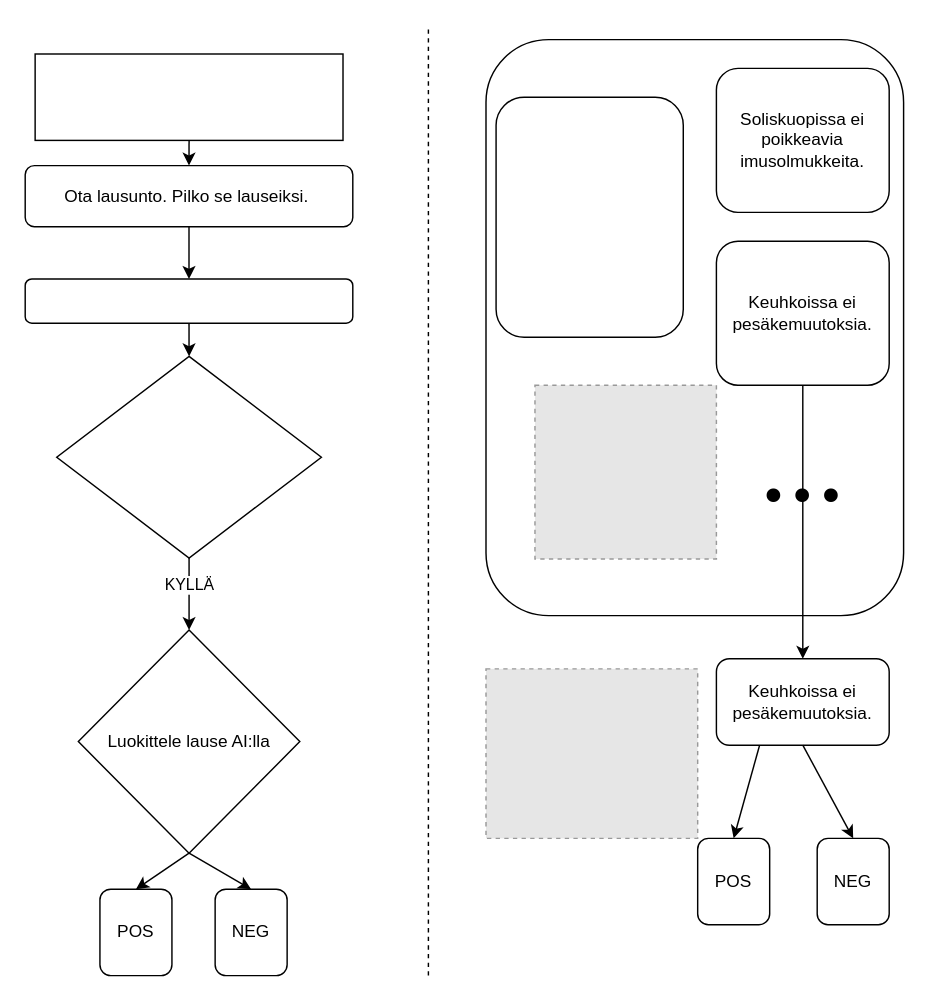
Some shapes in this 929 by 1002 pixel diagram are drawn without their labels. Grey dashed boxes stand in for pictures. The centre of each missing label's shape, as x and y in pixels:
"Alimmassa lannenikamassa on molemminpuolinen spondyloosi ja liukumaa noin 10 mm." goes at (x=589, y=216).
"Lausunnot ja niiden sisältämät lauseet" goes at (x=188, y=96).
"Sisältääkö lause sanan?" goes at (x=188, y=456).
"Syötä lauseet" goes at (x=188, y=300).
